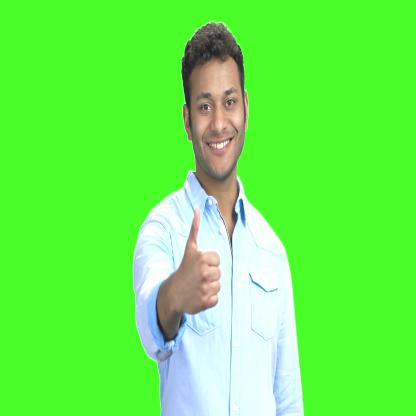Thumbs up: (180, 196, 224, 320)
